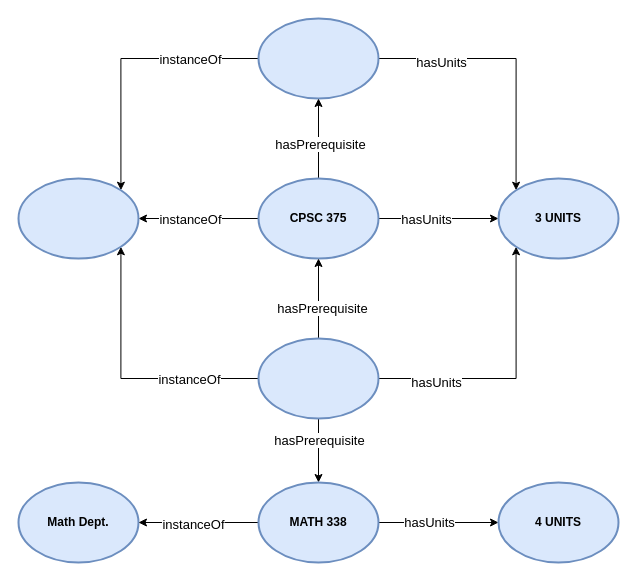
Image size: 636x580. Some labels were removed from this diagram. The shapes that lost their labels are listed below. From the top down, each one's box as (x1, y1, x2, y2) in pixels, then its label:
(257, 17, 379, 99): CPSC 131
(17, 177, 139, 259): Computer Science Dept.
(257, 337, 379, 419): CPSC 483
